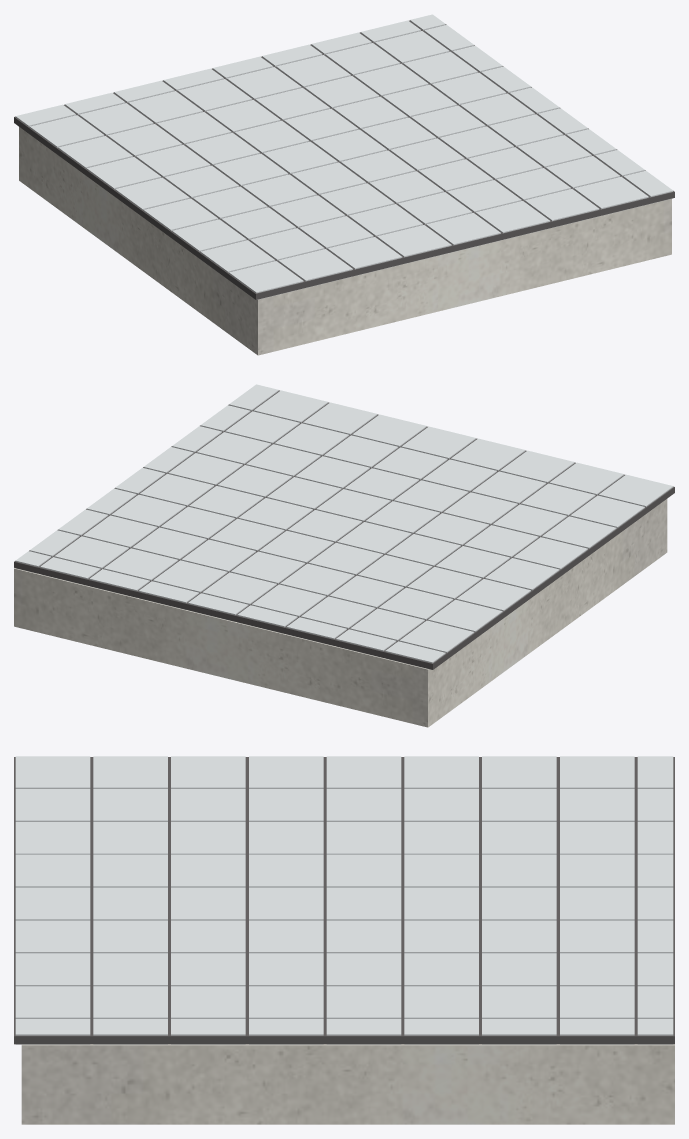
File: floor_tile_bath_e0110.glb
3 views of the same model, one above another, from view 1: azimuth 30°, elevation 25°; view 2: azimuth 150°, elevation 25°; view 3: azimuth 270°, elevation 25° (orthographic). The views are drawn at different scales.
Parts seen in each view (by area): view 1: floor_tile_bath_e0110_tile, floor_tile_bath_e0110_plaster, floor_tile_bath_e0110_dark; view 2: floor_tile_bath_e0110_tile, floor_tile_bath_e0110_plaster, floor_tile_bath_e0110_dark; view 3: floor_tile_bath_e0110_tile, floor_tile_bath_e0110_plaster, floor_tile_bath_e0110_dark.
Part boxes in pixels (x1,y1,x2,y2): floor_tile_bath_e0110_tile: [15, 14, 673, 299]; floor_tile_bath_e0110_plaster: [19, 127, 671, 355]; floor_tile_bath_e0110_dark: [14, 20, 674, 299]; floor_tile_bath_e0110_tile: [15, 384, 673, 669]; floor_tile_bath_e0110_plaster: [14, 499, 667, 727]; floor_tile_bath_e0110_dark: [14, 390, 674, 669]; floor_tile_bath_e0110_tile: [15, 756, 673, 1044]; floor_tile_bath_e0110_plaster: [21, 1044, 674, 1124]; floor_tile_bath_e0110_dark: [14, 757, 674, 1044].
Bounding box in the file's own units: 1.7 × 0.255 × 1.7.
Materials: 3 (1 with a texture image).
